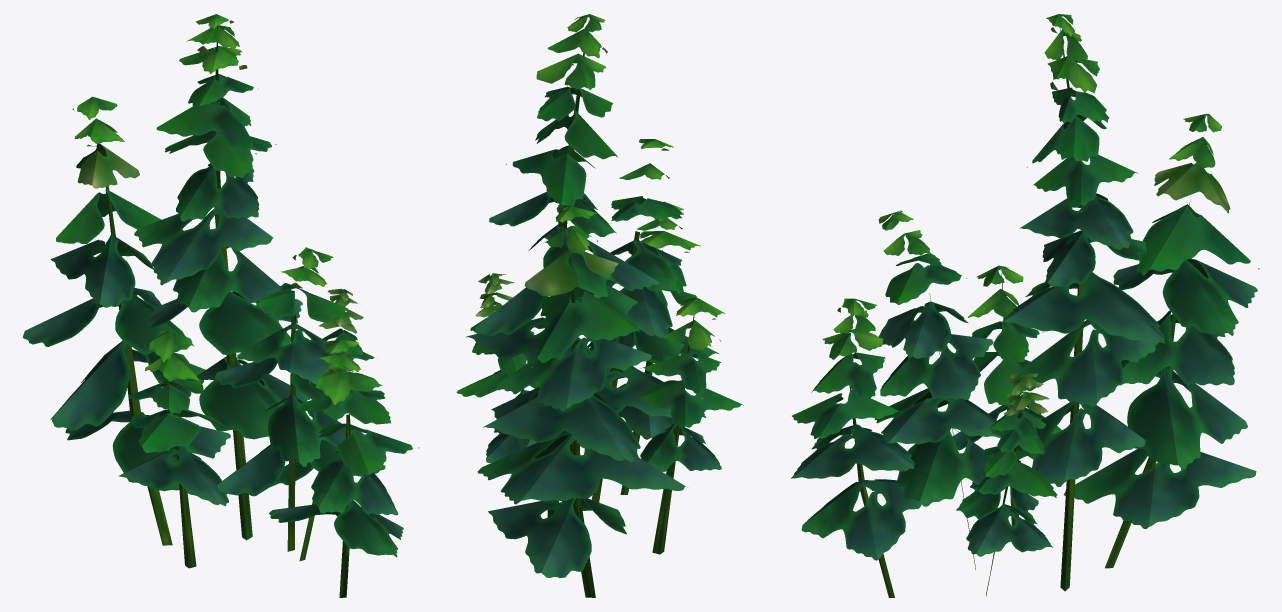
The model's file is cao02_zw.FBX.
The picture shows the model from 3 angles, left to right: view 1: azimuth 30°, elevation 25°; view 2: azimuth 150°, elevation 25°; view 3: azimuth 270°, elevation 25°; orthographic projection. The views are drawn at different scales.
Parts seen in each view (by area): view 1: cao02_zw_B; view 2: cao02_zw_B; view 3: cao02_zw_B.
Boxes of the visible parts, x1,y1,x2,y2 form: cao02_zw_B: [23, 14, 419, 597]; cao02_zw_B: [456, 14, 743, 597]; cao02_zw_B: [791, 14, 1259, 597].
Bounding box in the file's own units: 97.94 × 183 × 142.
